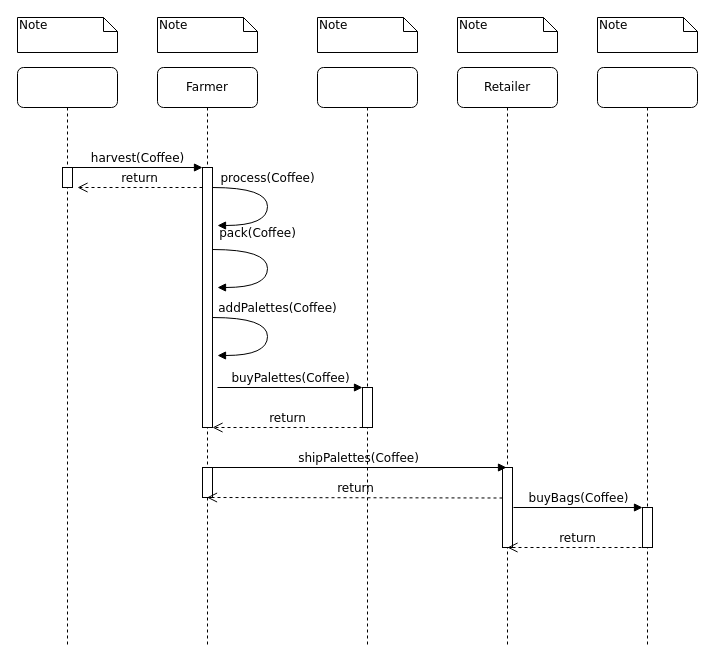
Image size: 715x665. Some labels were removed from this diagram. Here are the shapes that lost their labels. From the top down, the box of each, then its label:
(16, 66, 118, 648): Coffee
(316, 66, 418, 648): Distributor
(596, 66, 698, 648): Consumer
